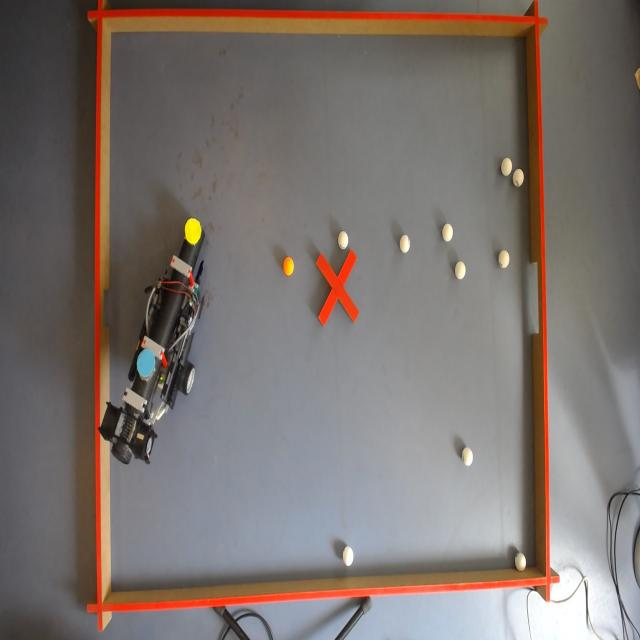orange: (283, 258, 296, 278)
robot: (97, 214, 210, 468)
robot-front: (186, 219, 203, 243)
robot-rear: (136, 346, 154, 381)
white: (462, 445, 476, 467), (342, 546, 355, 568), (499, 250, 512, 269), (513, 168, 526, 187), (400, 234, 412, 254), (515, 552, 528, 570), (454, 262, 466, 281), (442, 224, 454, 241), (502, 158, 513, 176), (338, 232, 350, 248)
